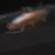cockroach: (5, 8, 50, 32)
